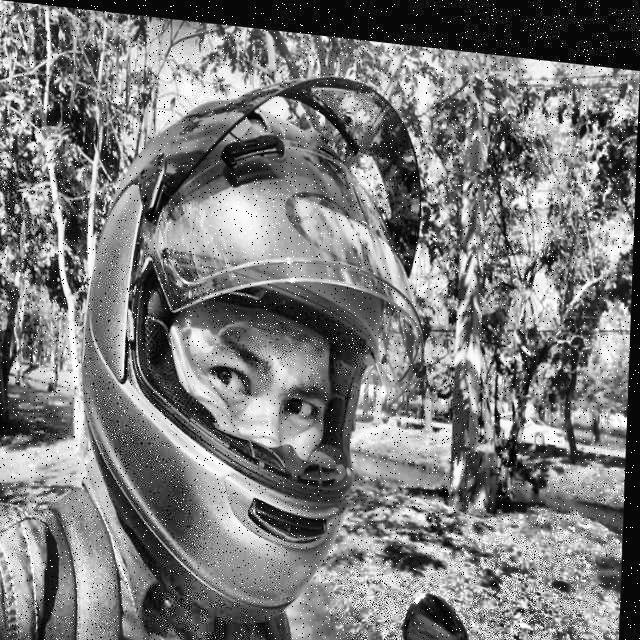Helmet: (71, 39, 443, 640)
